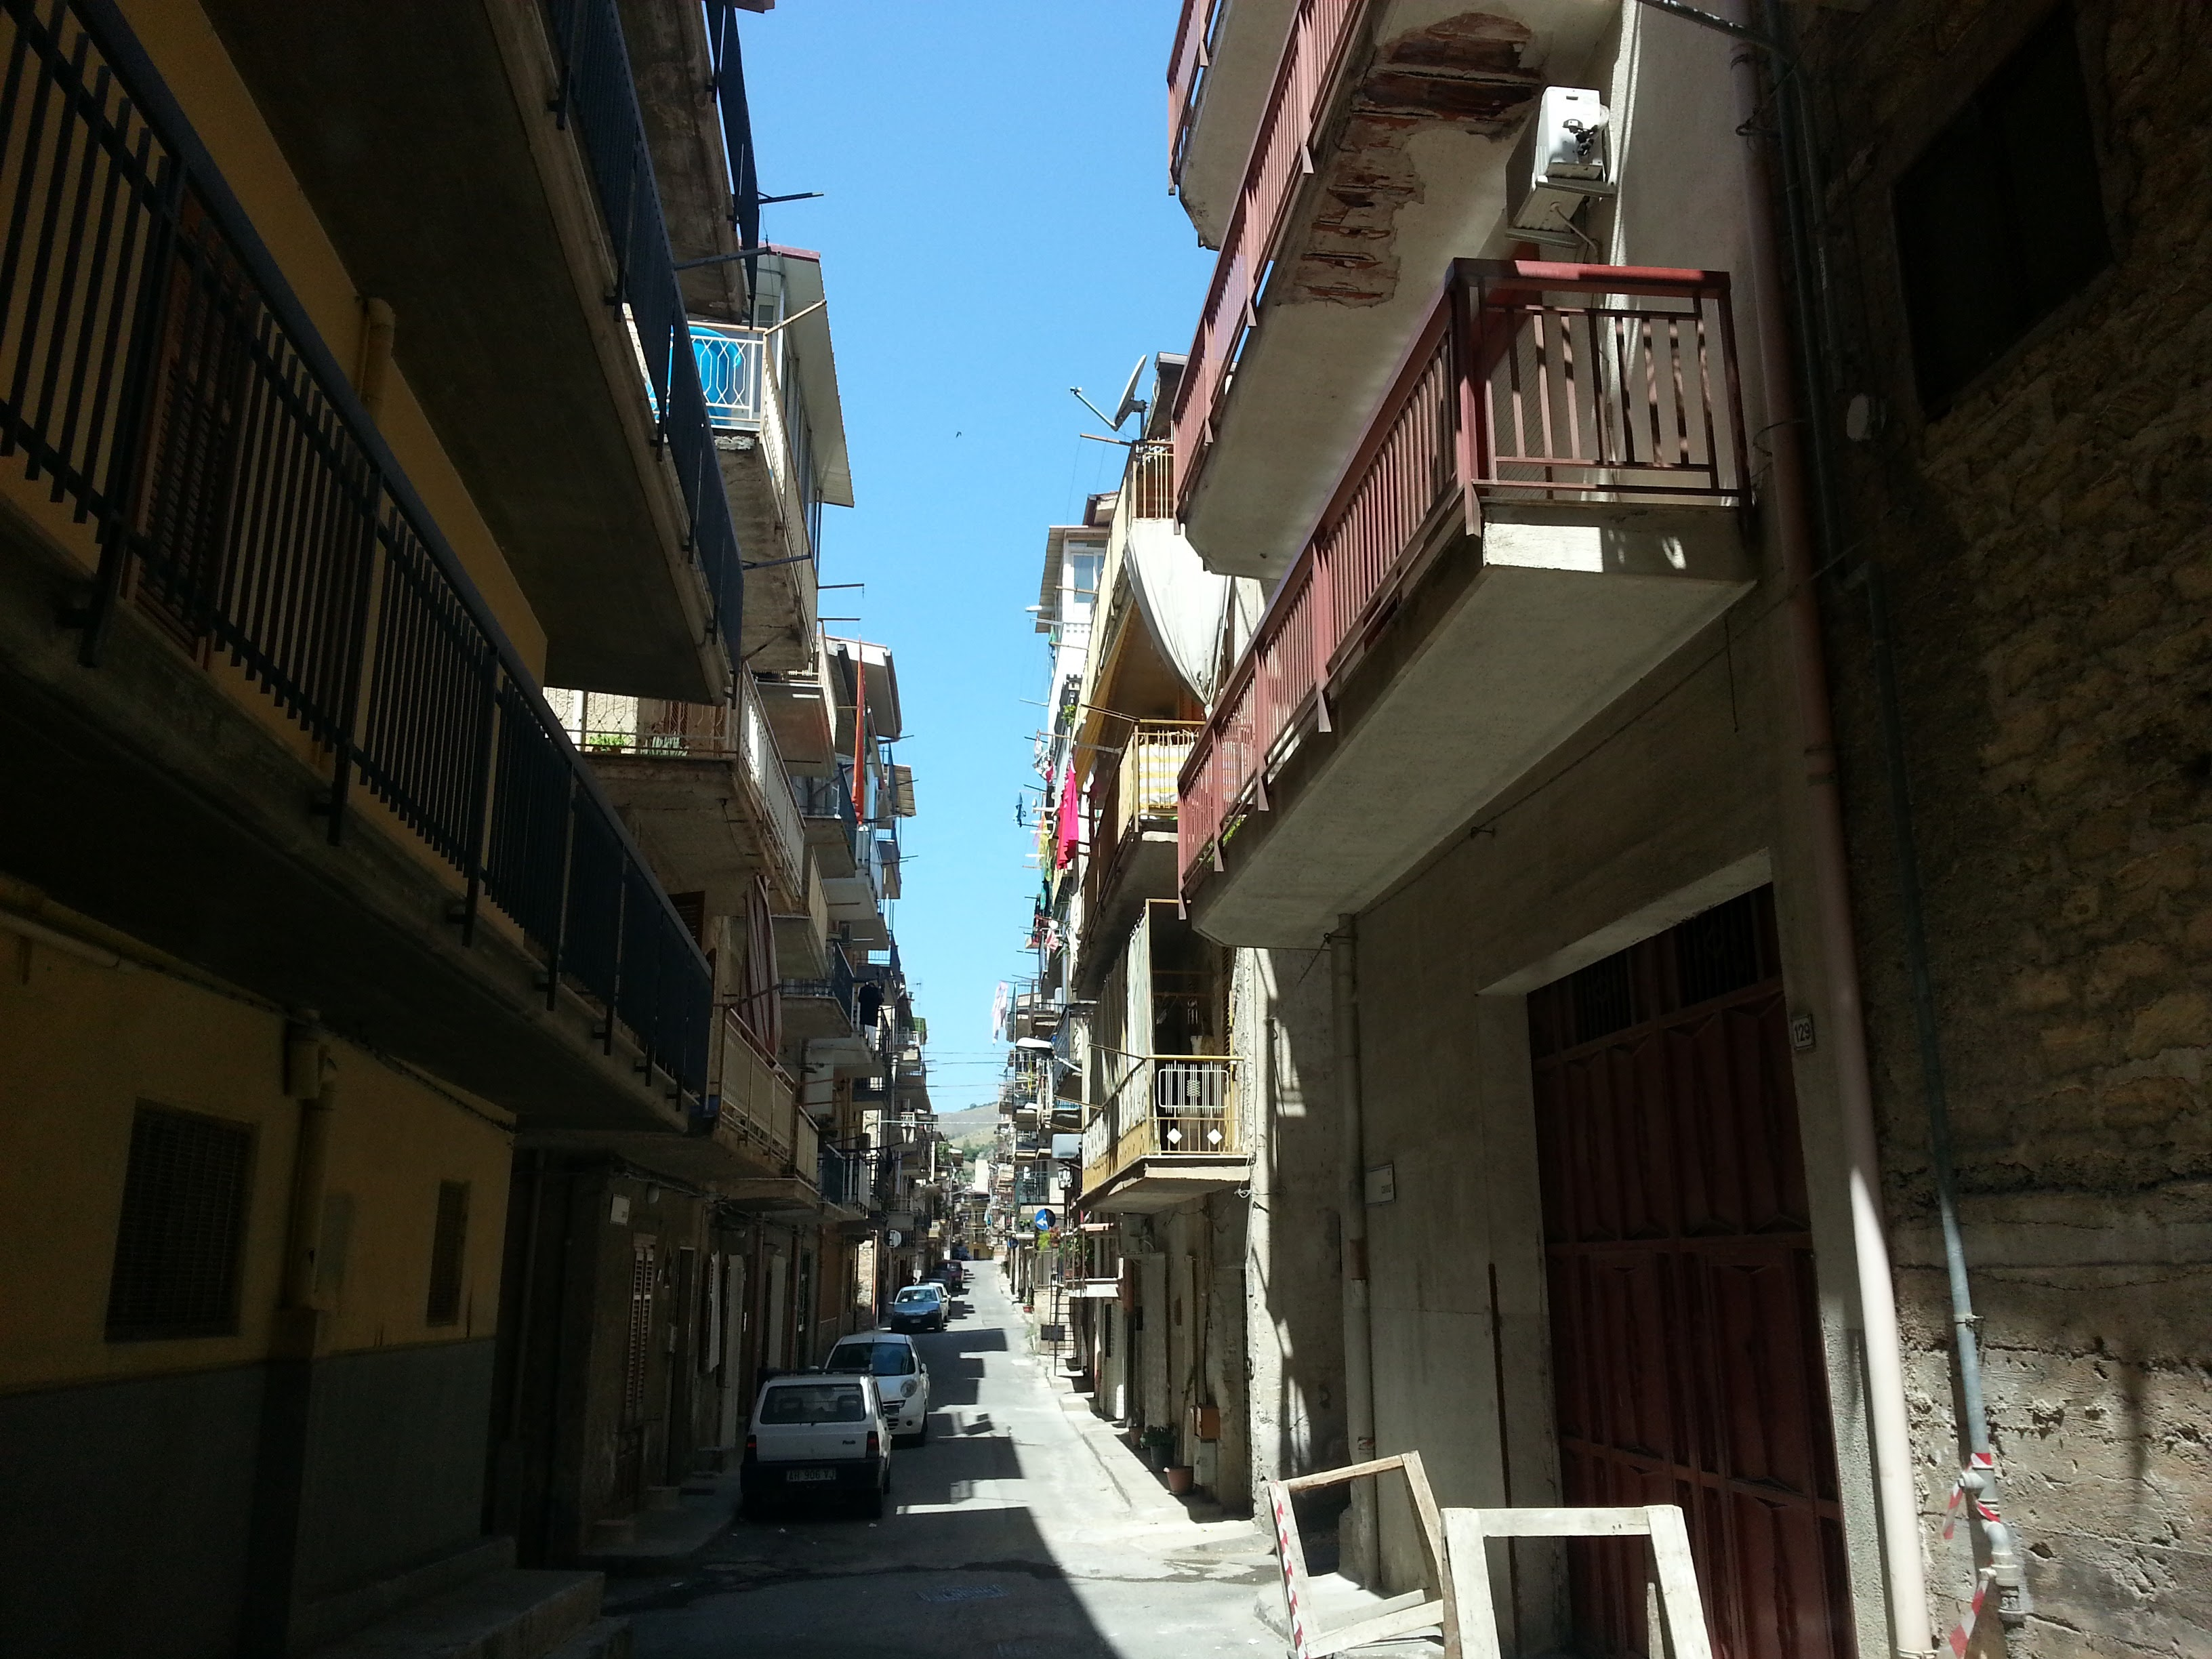car: (737, 1373, 894, 1521), (820, 1323, 939, 1429), (900, 1276, 951, 1328)
